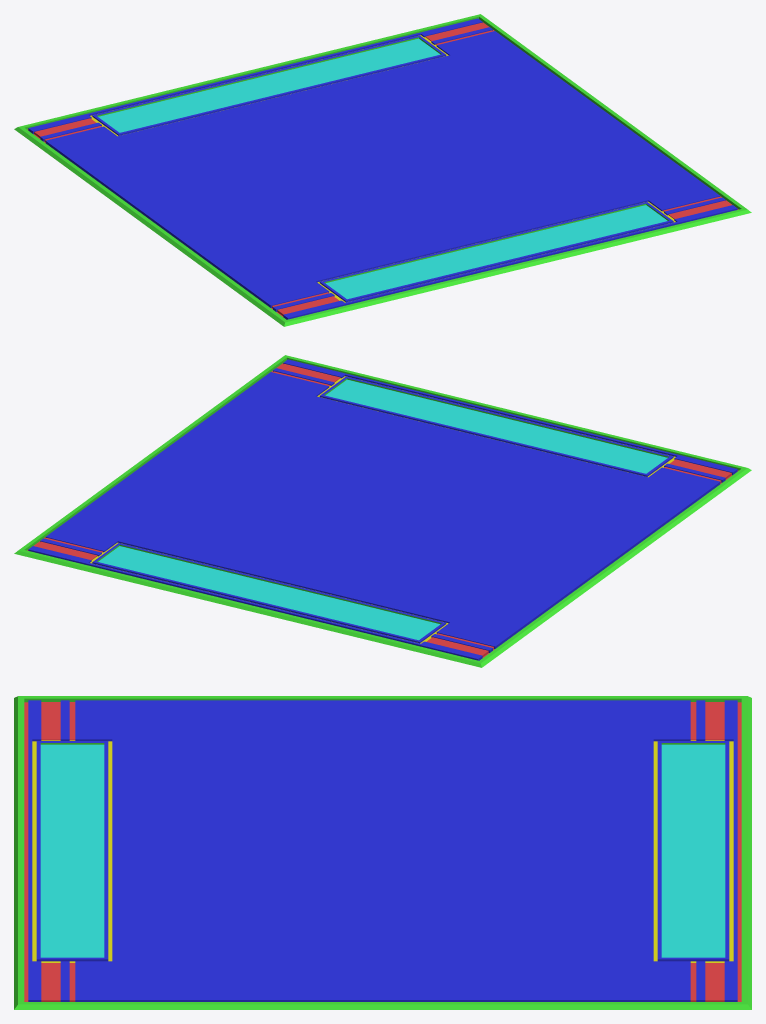
File: Floor_11_G_Side_B.fbx
3 views of the same model, one above another, from view 1: azimuth 30°, elevation 25°; view 2: azimuth 150°, elevation 25°; view 3: azimuth 270°, elevation 25° (orthographic). The views are drawn at different scales.
Parts seen in each view (by area): view 1: Floor_11_G_Side_B; view 2: Floor_11_G_Side_B; view 3: Floor_11_G_Side_B.
Boxes of the visible parts, <box> form: Floor_11_G_Side_B: <box>14,14,751,326</box>; Floor_11_G_Side_B: <box>14,355,751,667</box>; Floor_11_G_Side_B: <box>14,696,751,1009</box>.
Size of the model in its own units: 457 by 2.54 by 457.
